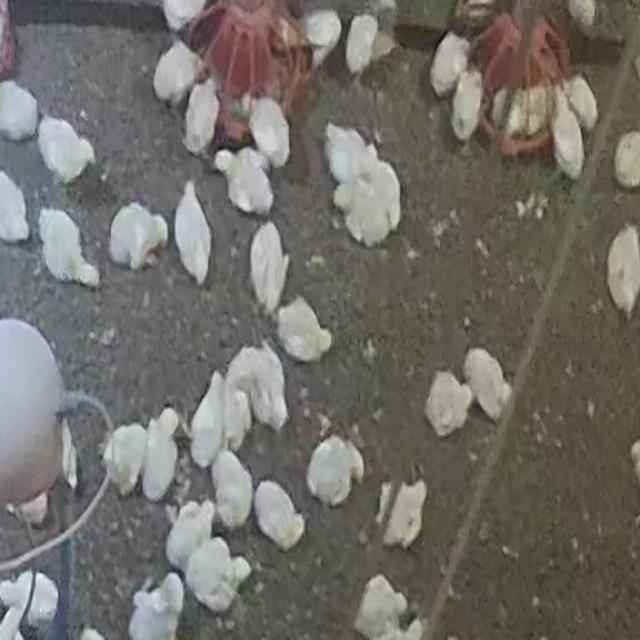chicken: (225, 345, 287, 438), (186, 538, 252, 618), (171, 180, 219, 288), (37, 206, 100, 287), (104, 198, 171, 272), (305, 436, 364, 509), (278, 295, 335, 368), (36, 115, 95, 184), (465, 342, 515, 422), (248, 221, 289, 315), (141, 408, 182, 502), (422, 368, 475, 440), (190, 370, 228, 468), (128, 572, 184, 638), (252, 480, 304, 551), (549, 83, 586, 182), (223, 146, 275, 216), (353, 572, 409, 636), (150, 40, 202, 106), (380, 479, 428, 549), (210, 451, 252, 530), (248, 96, 292, 168), (606, 224, 640, 314), (1, 572, 57, 626), (449, 68, 488, 145), (183, 78, 220, 158), (429, 32, 470, 97), (303, 9, 342, 72), (344, 13, 380, 76), (566, 72, 598, 130)
